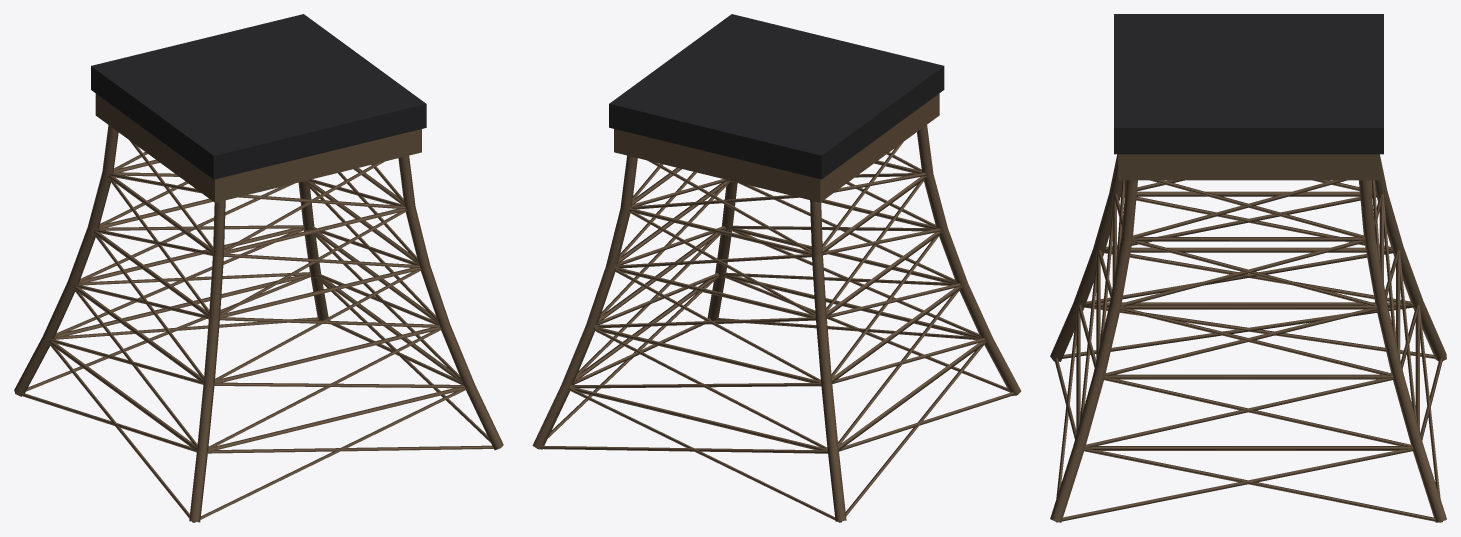
Rendered from EIFFEL_MID.glb.
The picture shows the model from 3 angles, left to right: view 1: azimuth 30°, elevation 25°; view 2: azimuth 150°, elevation 25°; view 3: azimuth 270°, elevation 25°; orthographic projection. The views are drawn at different scales.
Parts seen in each view (by area): view 1: paint_0, tread_1; view 2: paint_0, tread_1; view 3: paint_0, tread_1.
Part boxes in pixels (<box>): paint_0: <box>14,93,503,522</box>; tread_1: <box>91,14,426,179</box>; paint_0: <box>532,93,1021,522</box>; tread_1: <box>609,14,944,179</box>; paint_0: <box>1050,154,1446,522</box>; tread_1: <box>1114,14,1383,154</box>.
Size of the model in its own units: 12.37 by 12.73 by 12.35.
